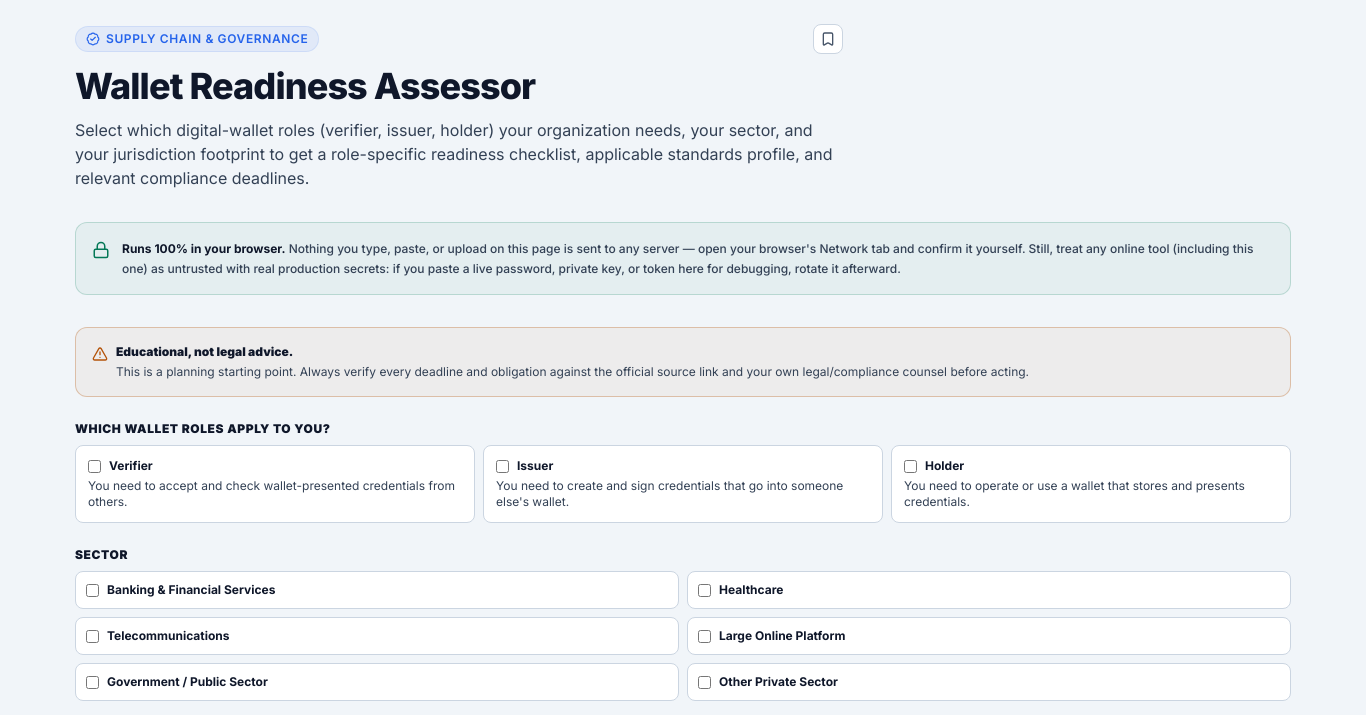
Test case: WalletReadinessAssessor tool page › shows relevant compliance deadlines once EU jurisdiction is selected
The width and height of the screenshot is (1366, 715).
Click the checkbox labelled "Verifier": (94, 466) [88,460,101,472]
(page scrolled)
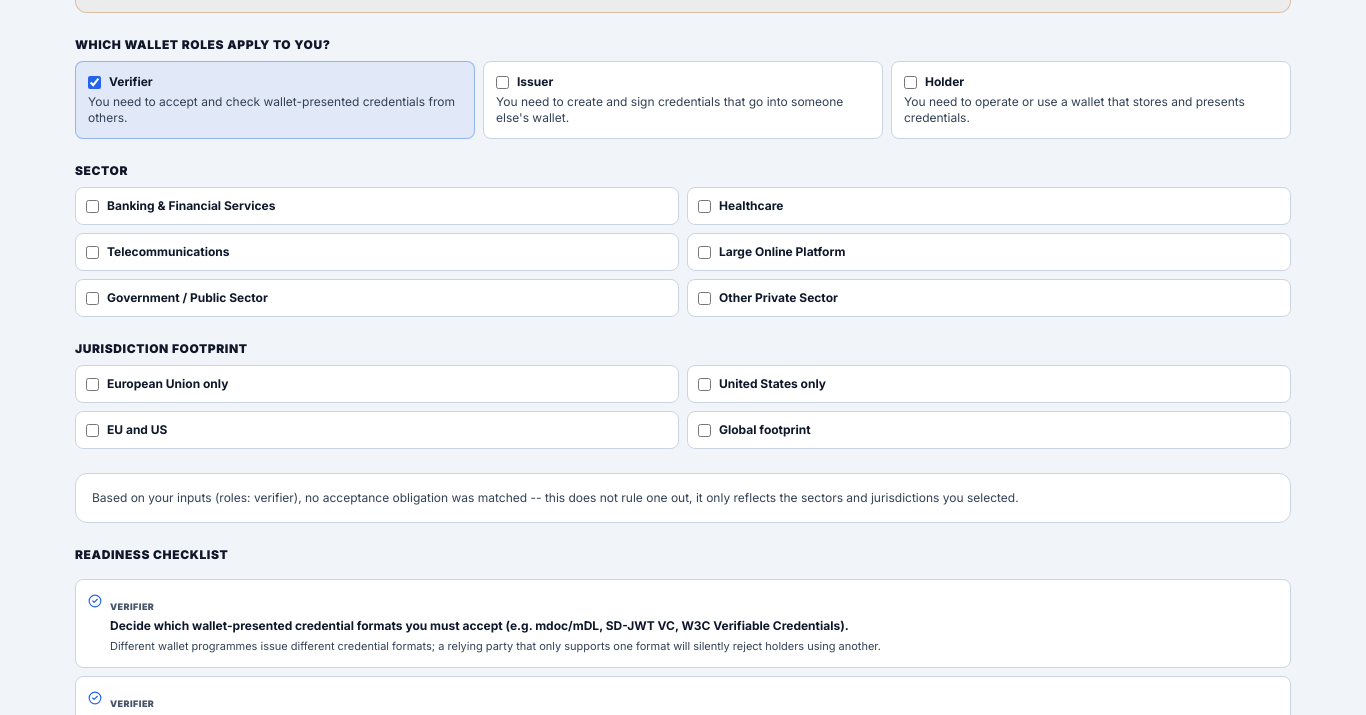
Click the checkbox labelled "European Union only": (92, 384) [86,378,99,390]
(page scrolled)
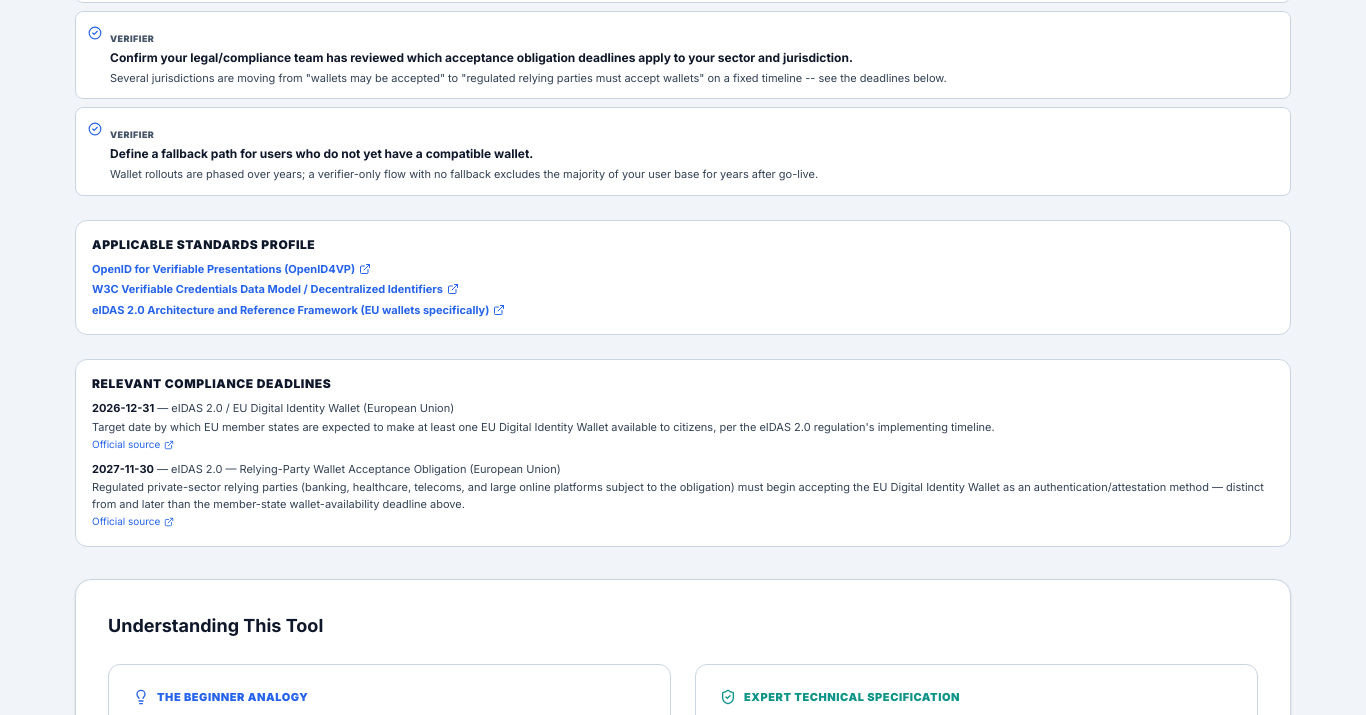
expect the heading "Relevant Compliance Deadlines" is shown: met, box [92,376,331,391]
